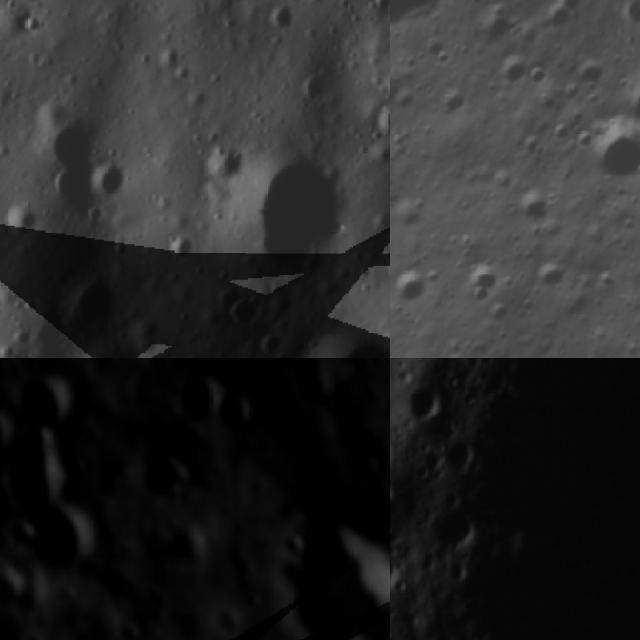crater: (206, 124, 380, 300), (262, 523, 390, 640), (14, 502, 100, 596), (268, 294, 390, 358), (38, 102, 118, 185), (572, 106, 640, 200), (6, 433, 72, 513), (61, 267, 127, 335), (6, 368, 75, 432), (495, 173, 559, 238), (450, 250, 511, 313), (519, 246, 579, 309), (476, 46, 536, 106), (85, 140, 143, 202), (390, 259, 443, 325), (134, 453, 192, 510), (287, 54, 342, 110), (170, 367, 216, 430), (0, 192, 50, 249), (220, 279, 272, 331), (158, 524, 208, 577), (204, 134, 255, 185), (430, 499, 481, 548), (610, 63, 640, 145), (214, 389, 260, 442), (402, 378, 453, 418), (362, 86, 390, 152), (260, 0, 306, 39), (441, 431, 478, 470), (623, 243, 640, 311), (442, 341, 508, 358), (390, 169, 406, 236), (103, 344, 167, 358), (390, 553, 401, 590)
